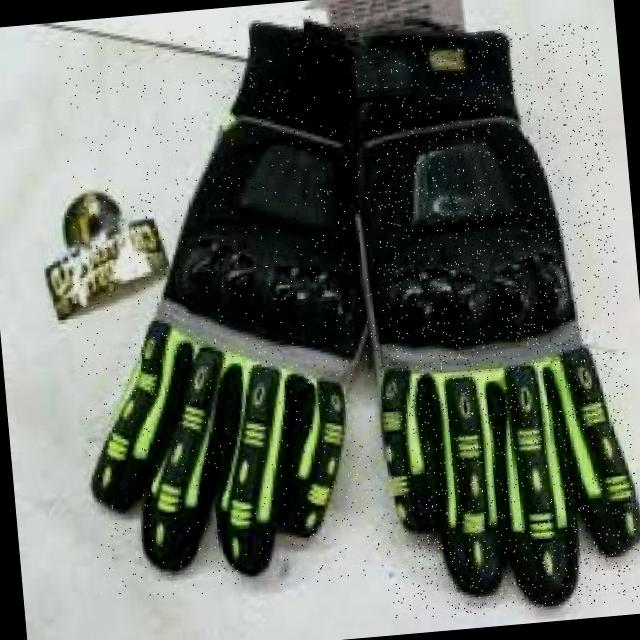gloves: (42, 11, 410, 590), (341, 20, 640, 619)
